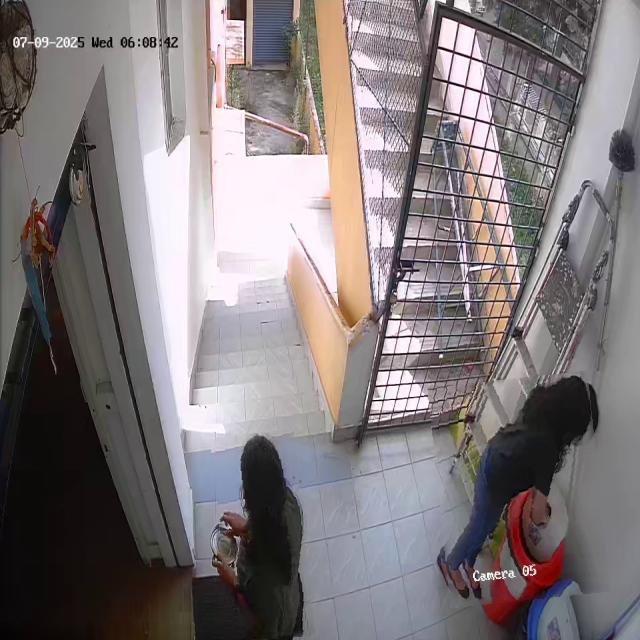person: (432, 375, 605, 605), (215, 431, 310, 640)
